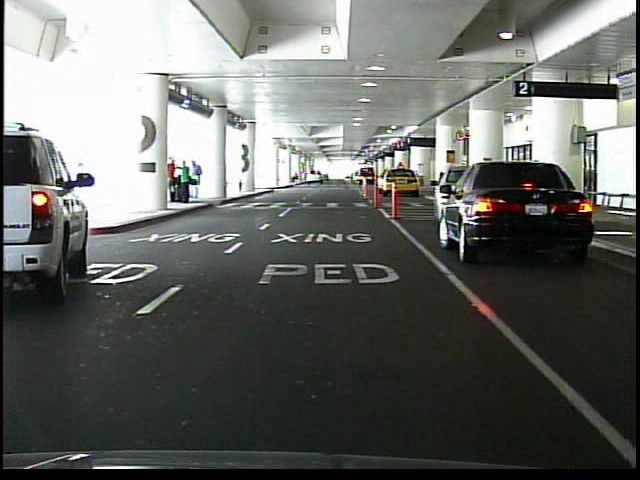person: (177, 160, 192, 204), (166, 155, 178, 204), (191, 159, 203, 200)
